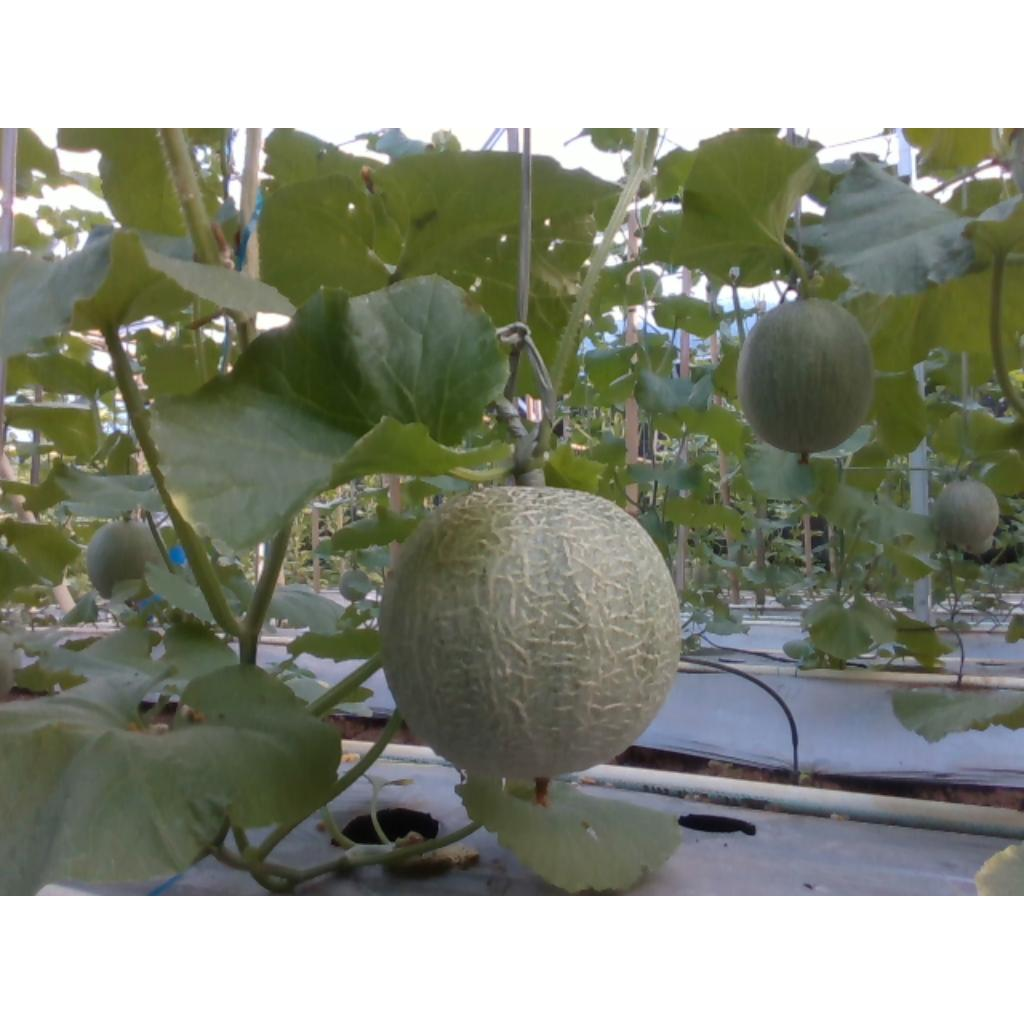melon: (381, 488, 680, 780)
